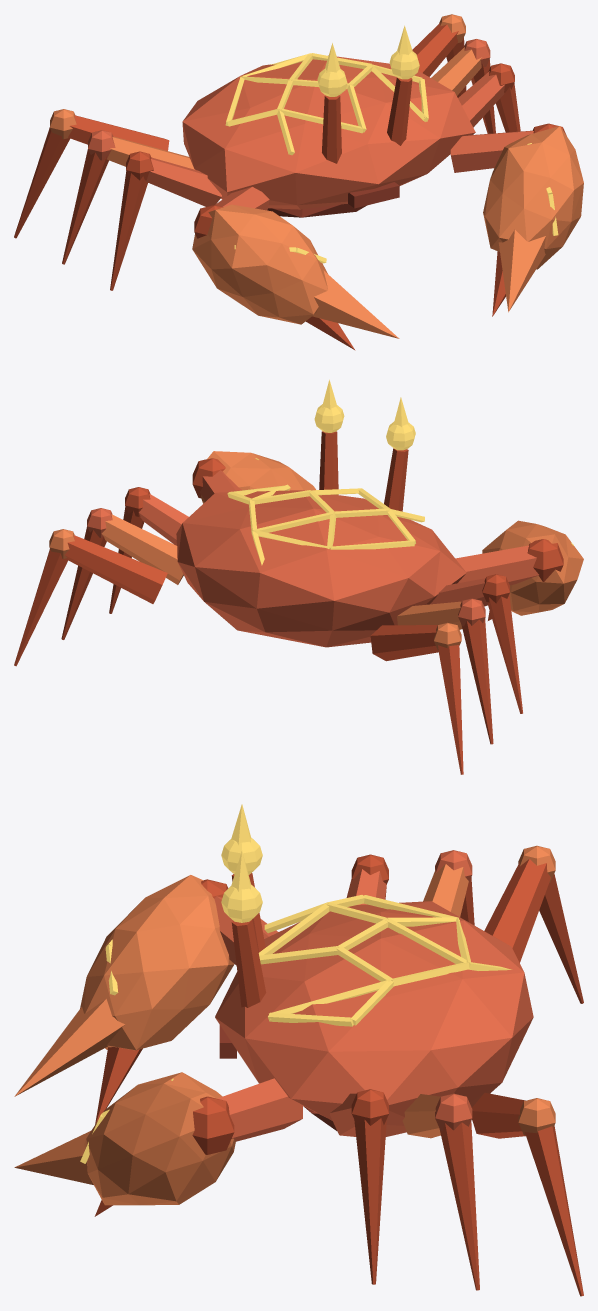
Rendered from embercrab.glb.
3 views of the same model, one above another, from view 1: azimuth 30°, elevation 25°; view 2: azimuth 150°, elevation 25°; view 3: azimuth 270°, elevation 25° (orthographic). The views are drawn at different scales.
Parts seen in each view (by area): view 1: embercrab_0_mat_c22410, embercrab_5_mat_e03c14, embercrab_3_mat_961608, embercrab_2_glow_ffb428, embercrab_1_mat_4a0c06, embercrab_6_glow_ffb428, embercrab_4_glow_ffb428; view 2: embercrab_0_mat_c22410, embercrab_3_mat_961608, embercrab_5_mat_e03c14, embercrab_2_glow_ffb428, embercrab_4_glow_ffb428, embercrab_6_glow_ffb428; view 3: embercrab_0_mat_c22410, embercrab_5_mat_e03c14, embercrab_3_mat_961608, embercrab_2_glow_ffb428, embercrab_6_glow_ffb428, embercrab_4_glow_ffb428.
Boxes of the visible parts, <box> form: embercrab_0_mat_c22410: <box>88,39,533,210</box>; embercrab_5_mat_e03c14: <box>50,14,583,338</box>; embercrab_3_mat_961608: <box>14,23,566,350</box>; embercrab_2_glow_ffb428: <box>225,25,558,263</box>; embercrab_1_mat_4a0c06: <box>267,182,399,217</box>; embercrab_6_glow_ffb428: <box>389,51,419,79</box>; embercrab_4_glow_ffb428: <box>317,68,347,96</box>; embercrab_0_mat_c22410: <box>87,470,538,647</box>; embercrab_3_mat_961608: <box>14,431,563,774</box>; embercrab_5_mat_e03c14: <box>49,451,583,650</box>; embercrab_2_glow_ffb428: <box>227,379,573,565</box>; embercrab_4_glow_ffb428: <box>386,421,415,450</box>; embercrab_6_glow_ffb428: <box>314,404,344,432</box>; embercrab_0_mat_c22410: <box>214,850,533,1141</box>; embercrab_5_mat_e03c14: <box>14,845,555,1205</box>; embercrab_3_mat_961608: <box>94,854,583,1296</box>; embercrab_2_glow_ffb428: <box>80,804,511,1163</box>; embercrab_6_glow_ffb428: <box>221,884,262,922</box>; embercrab_4_glow_ffb428: <box>221,837,262,874</box>.
Bounding box in the file's own units: 2.01 × 1.1 × 1.64.
